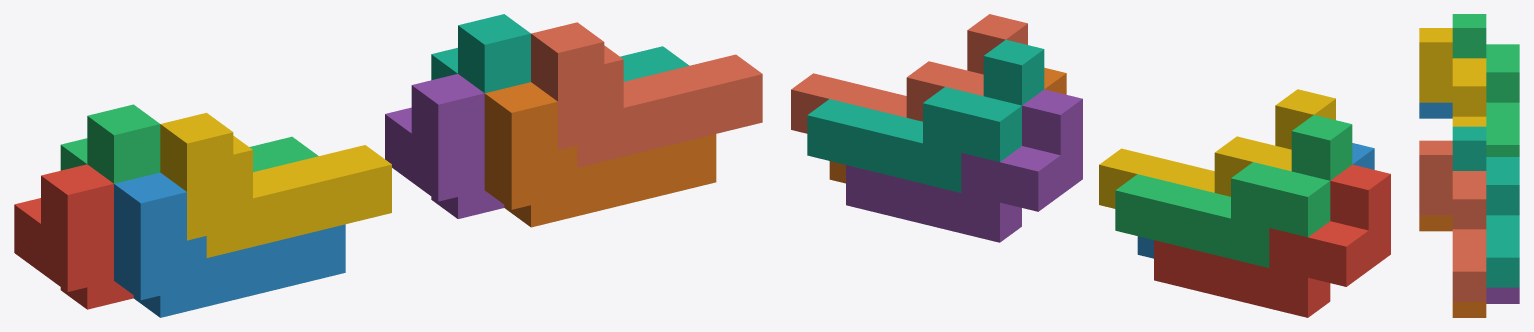
File: tiling.obj
3 views of the same model, side by side, from view 1: azimuth 30°, elevation 25°; view 2: azimuth 150°, elevation 25°; view 3: azimuth 270°, elevation 25° (orthographic). The views are drawn at different scales.
Visible parts, largest first — view 1: copy_1_domain_4, copy_1_domain_8, copy_1_domain_6, copy_1_domain_2, copy_1_domain_5, copy_1_domain_1, copy_1_domain_3, copy_1_domain_7; view 2: copy_1_domain_3, copy_1_domain_7, copy_1_domain_1, copy_1_domain_5, copy_1_domain_8, copy_1_domain_4, copy_1_domain_2, copy_1_domain_6; view 3: copy_1_domain_8, copy_1_domain_7, copy_1_domain_3, copy_1_domain_4, copy_1_domain_6, copy_1_domain_2, copy_1_domain_5.
Part boxes in pixels (x1=…): copy_1_domain_4: x1=160, y1=112, x2=391, y2=257; copy_1_domain_8: x1=531, y1=22, x2=762, y2=167; copy_1_domain_6: x1=484, y1=82, x2=716, y2=227; copy_1_domain_2: x1=114, y1=172, x2=345, y2=317; copy_1_domain_5: x1=385, y1=74, x2=504, y2=218; copy_1_domain_1: x1=14, y1=164, x2=133, y2=309; copy_1_domain_3: x1=60, y1=104, x2=318, y2=183; copy_1_domain_7: x1=431, y1=14, x2=689, y2=93; copy_1_domain_3: x1=1115, y1=115, x2=1352, y2=267; copy_1_domain_7: x1=807, y1=39, x2=1044, y2=192; copy_1_domain_1: x1=1154, y1=164, x2=1390, y2=317; copy_1_domain_5: x1=846, y1=89, x2=1082, y2=242; copy_1_domain_8: x1=791, y1=14, x2=1027, y2=133; copy_1_domain_4: x1=1099, y1=89, x2=1335, y2=208; copy_1_domain_2: x1=1137, y1=143, x2=1374, y2=258; copy_1_domain_6: x1=829, y1=67, x2=1066, y2=183; copy_1_domain_8: x1=1419, y1=140, x2=1486, y2=301; copy_1_domain_7: x1=1452, y1=126, x2=1519, y2=287; copy_1_domain_3: x1=1452, y1=14, x2=1519, y2=156; copy_1_domain_4: x1=1419, y1=28, x2=1486, y2=126; copy_1_domain_6: x1=1419, y1=215, x2=1486, y2=317; copy_1_domain_2: x1=1419, y1=102, x2=1452, y2=118; copy_1_domain_5: x1=1486, y1=287, x2=1519, y2=303.
Bounding box in the file's own units: 15 × 4 × 3.
